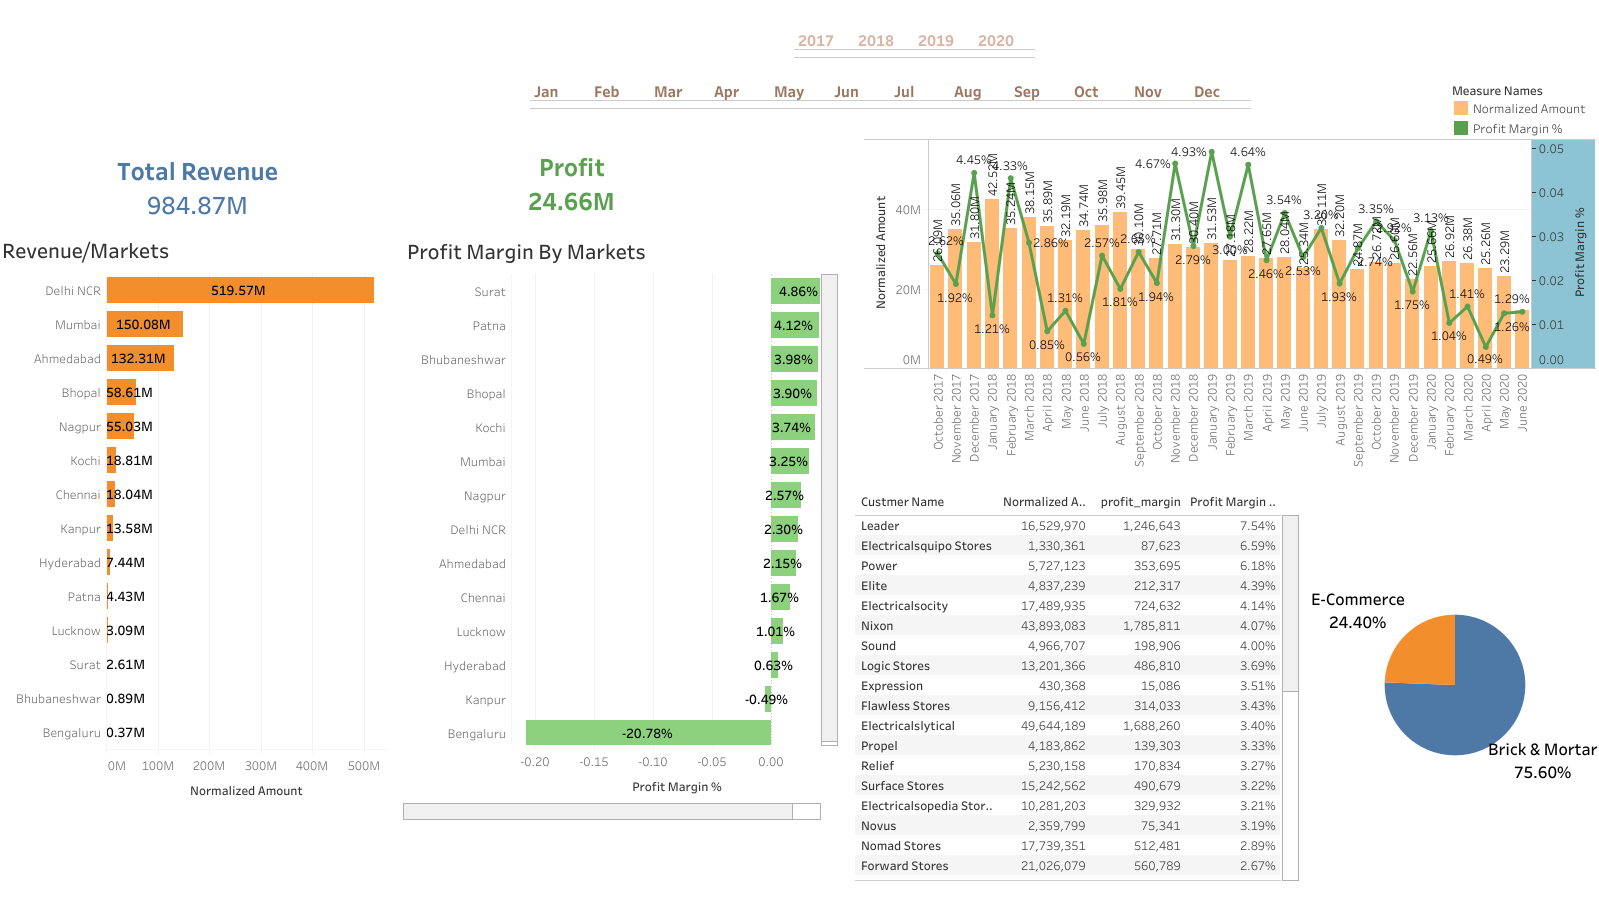

The page's visual inventory and layout, read from the dashboard file:
{"tool":"tableau","page":{"name":"Profit Analysis","canvas":[1600,900],"ordinal":0},"visuals":[{"type":"worksheet","title":"Year ","mark":"Automatic","cols":["cy_date"],"box":[794,14,245,60]},{"type":"worksheet","title":"Month","mark":"Automatic","cols":["cy_date"],"box":[530,65,736,68]},{"type":"legend","title":"Profit Trend","param":"[federated.0hr7ak21o6bcol1c9alus15mp07v].[:Measure Names]","box":[1451,79,140,58]},{"type":"worksheet","title":"Profit","mark":"Automatic","box":[522,134,141,89]},{"type":"worksheet","title":"Revenue","mark":"Automatic","box":[108,138,193,98]},{"type":"worksheet","title":"Profit Trend","mark":"Bar","rows":["Calculation_533113655013462016","Calculation_533113655054303235"],"cols":["cy_date"],"box":[864,139,732,330]},{"type":"worksheet","title":"Profit Margin By Markets","mark":"Automatic","rows":["markets_name"],"cols":["Calculation_533113655054303235"],"box":[403,231,435,589]},{"type":"worksheet","title":"Customer Table","mark":"Automatic","rows":["custmer_name"],"box":[855,471,449,410]},{"type":"worksheet","title":"Pie Chart","mark":"Pie","box":[1311,524,288,307]}]}

Visuals, with their boxes in screenshot pixels (x1, y1, x2, y2), scaled from the page's 1600x900 canvas onto the 1599x899 screenshot:
"Year " worksheet: box(794, 14, 1038, 74)
"Month" worksheet: box(530, 65, 1265, 133)
"Profit Trend" legend: box(1450, 79, 1590, 137)
"Profit" worksheet: box(522, 134, 663, 223)
"Revenue" worksheet: box(108, 138, 301, 236)
"Profit Trend" worksheet (Bar marks): box(863, 139, 1595, 468)
"Profit Margin By Markets" worksheet: box(403, 231, 837, 819)
"Customer Table" worksheet: box(854, 470, 1303, 880)
"Pie Chart" worksheet (Pie marks): box(1310, 523, 1598, 830)
